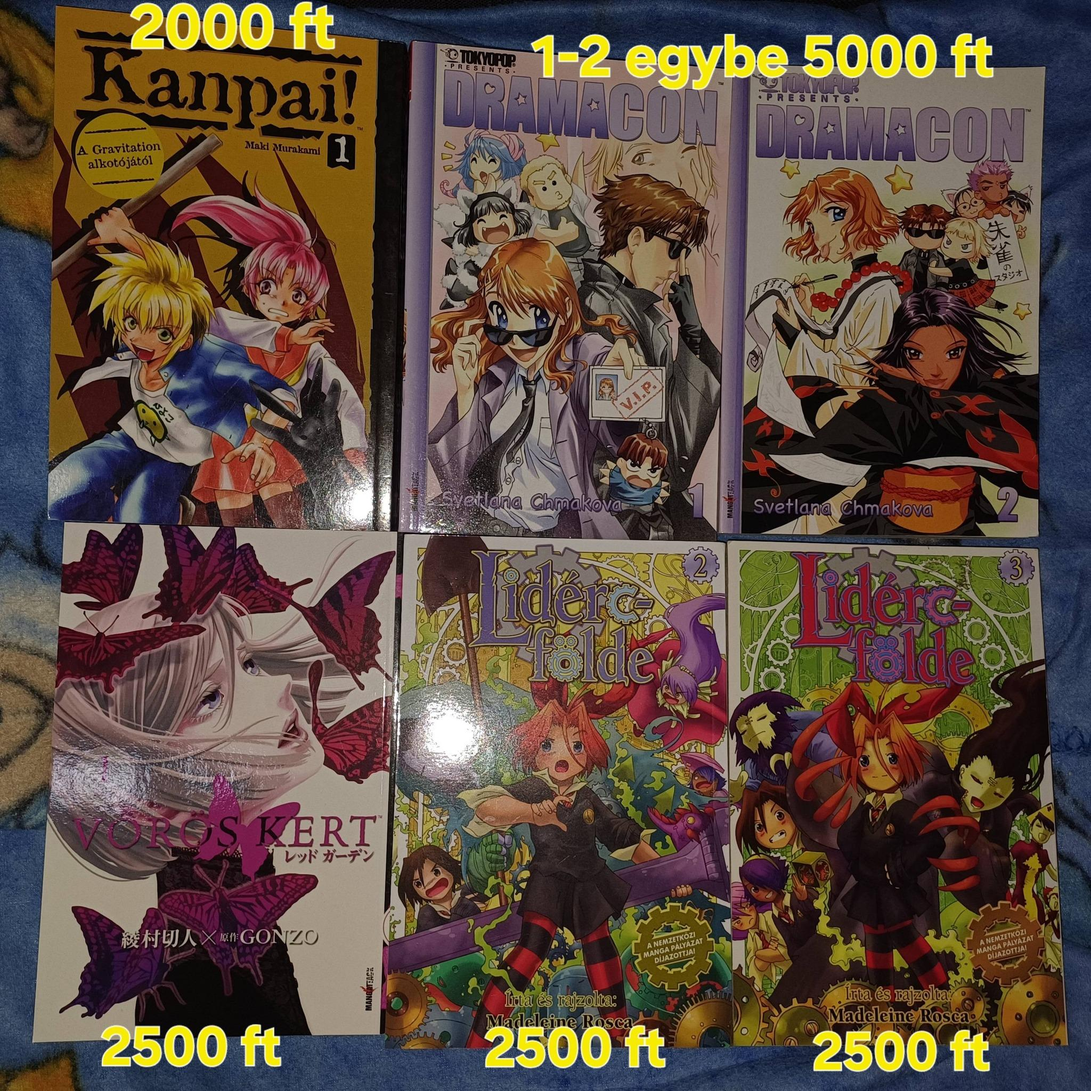comic: (33, 513, 409, 1061), (48, 7, 408, 530), (384, 536, 741, 1055), (726, 537, 1067, 1049), (398, 43, 739, 542), (723, 65, 1044, 538)
